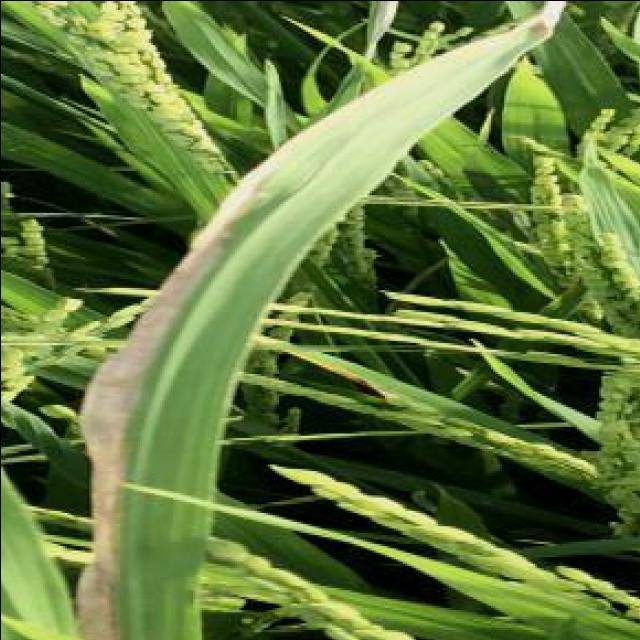Bacterial_Leaf_Blight: (84, 229, 254, 640)
